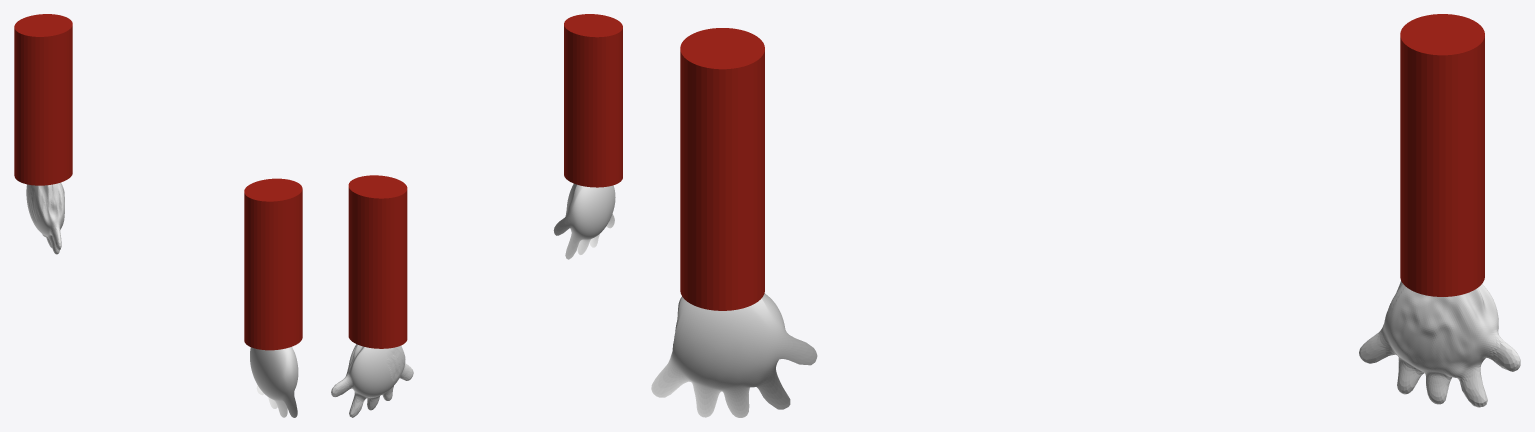
File: arms2.fbx
3 views of the same model, side by side, from view 1: azimuth 30°, elevation 25°; view 2: azimuth 150°, elevation 25°; view 3: azimuth 270°, elevation 25° (orthographic). The views are drawn at different scales.
Visible parts, largest first — view 1: Cylinder, Cylinder.001, Icosphere, Icosphere.001; view 2: Cylinder.001, Cylinder, Icosphere.001, Icosphere; view 3: Cylinder, Cylinder.001, Icosphere, Icosphere.001.
Part boxes in pixels (x1,y1,x2,y2): Cylinder: (244,178,302,350); Cylinder.001: (14,14,72,185); Icosphere: (250,347,298,417); Icosphere.001: (26,182,64,254); Cylinder.001: (348,175,407,348); Cylinder: (564,14,622,187); Icosphere.001: (331,344,413,417); Icosphere: (553,183,615,259); Cylinder: (680,28,764,310); Cylinder.001: (1400,14,1484,296); Icosphere: (651,293,817,417); Icosphere.001: (1359,281,1520,407).
Bounding box in the file's own units: 187 × 679 × 1438.
